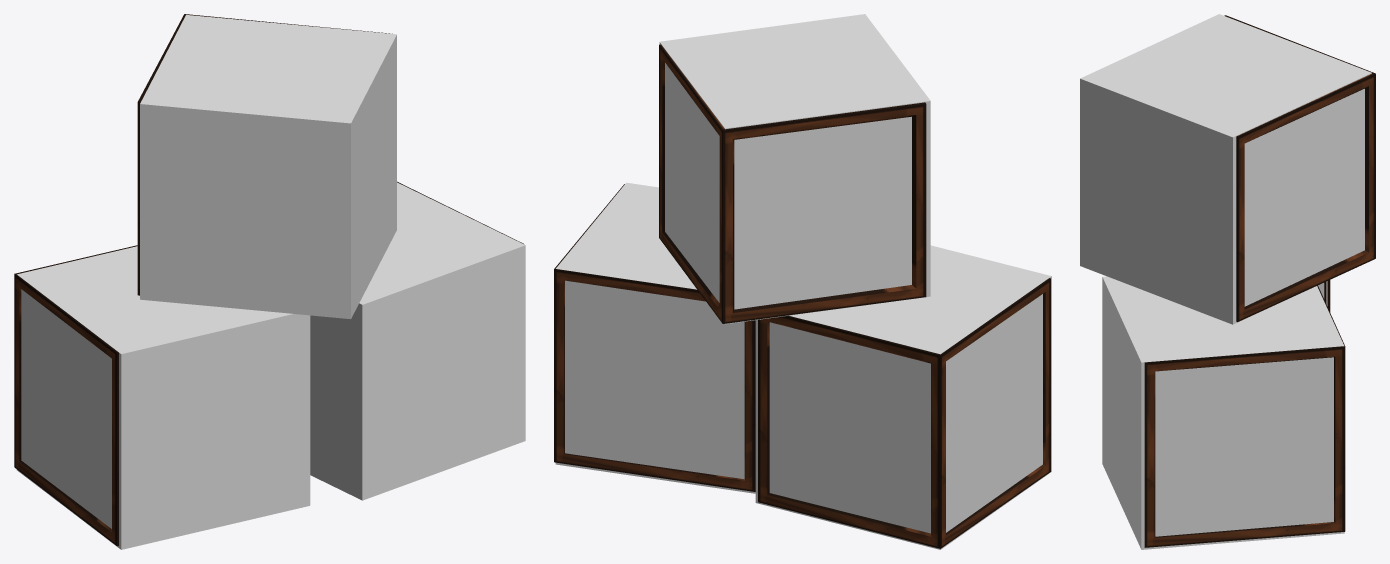
File: Boxes_Col.fbx
3 views of the same model, side by side, from view 1: azimuth 30°, elevation 25°; view 2: azimuth 150°, elevation 25°; view 3: azimuth 270°, elevation 25° (orthographic). The views are drawn at different scales.
Parts seen in each view (by area): view 1: Boxes_Col, boxes; view 2: Boxes_Col, boxes; view 3: Boxes_Col, boxes.
Boxes of the visible parts, box(x1,y1,x2,y2) form: Boxes_Col: box(16, 15, 525, 549); boxes: box(14, 14, 523, 545); Boxes_Col: box(555, 14, 1051, 549); boxes: box(554, 44, 1050, 548); Boxes_Col: box(1080, 14, 1371, 549); boxes: box(1144, 15, 1375, 547).
Bounding box in the file's own units: 125 × 112 × 80.51.
